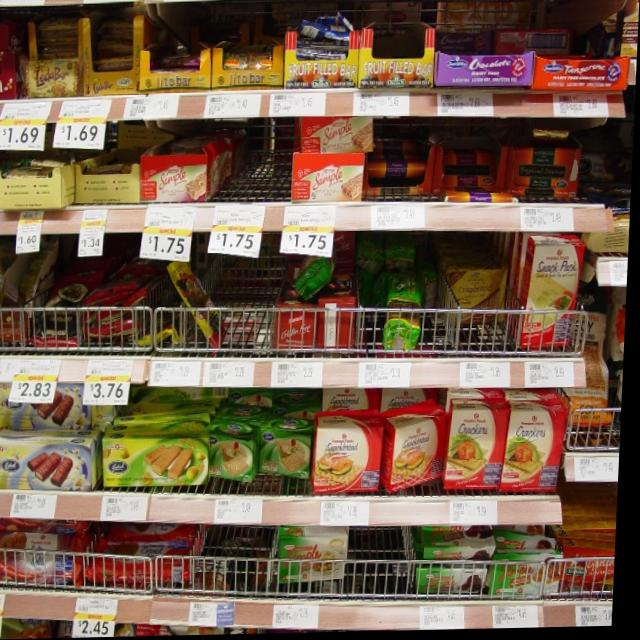q22: (314, 416, 393, 499), (511, 396, 568, 499), (394, 403, 453, 493), (449, 402, 508, 492)
